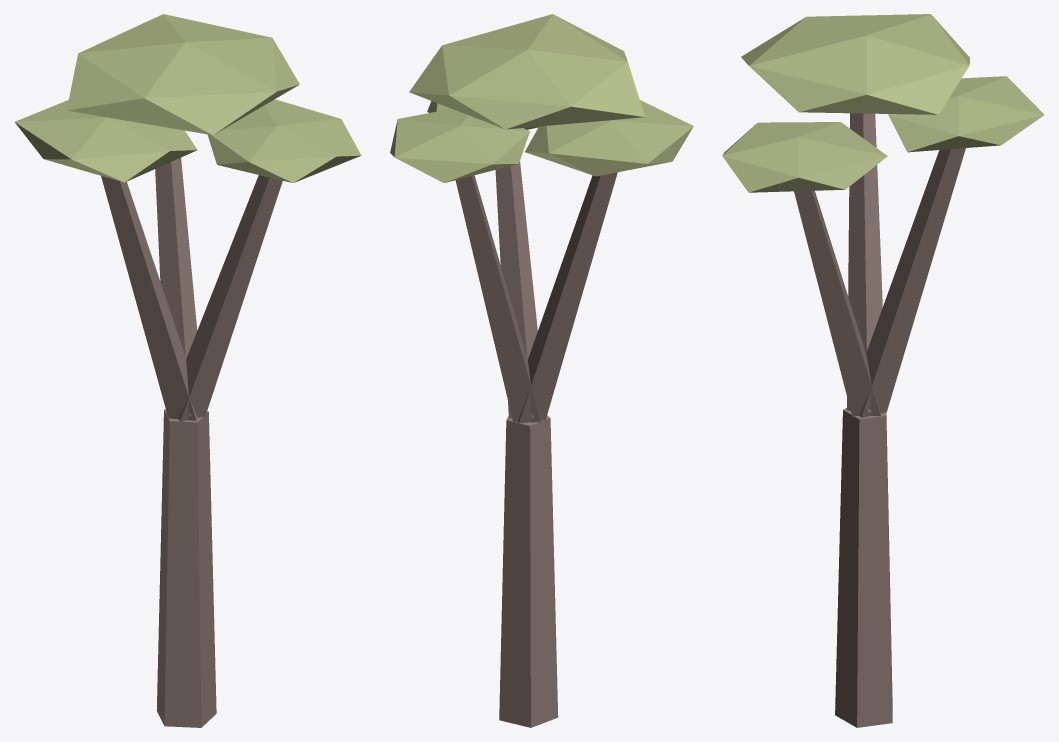
File: arv_acacia_1_sem_textura.glb
3 views of the same model, side by side, from view 1: azimuth 30°, elevation 25°; view 2: azimuth 150°, elevation 25°; view 3: azimuth 270°, elevation 25° (orthographic). The views are drawn at different scales.
Visible parts, largest first — view 1: arv_acacia_1; view 2: arv_acacia_1; view 3: arv_acacia_1.
Part boxes in pixels (bbox=[...]): arv_acacia_1: bbox=[15, 14, 361, 727]; arv_acacia_1: bbox=[390, 14, 693, 727]; arv_acacia_1: bbox=[722, 14, 1044, 727].
Bounding box in the file's own units: 0.7847 × 1.88 × 0.8093.
